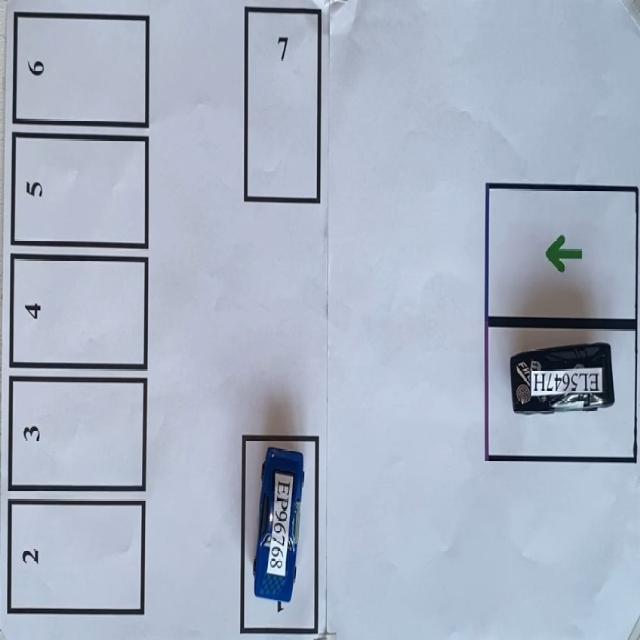car: (254, 448, 303, 610), (510, 343, 614, 412)
